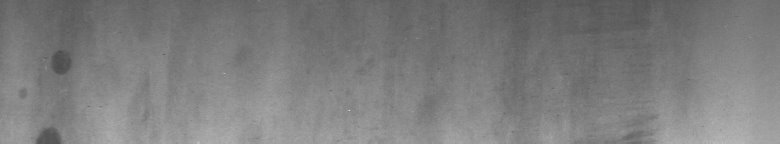fi: (19, 45, 72, 136)
